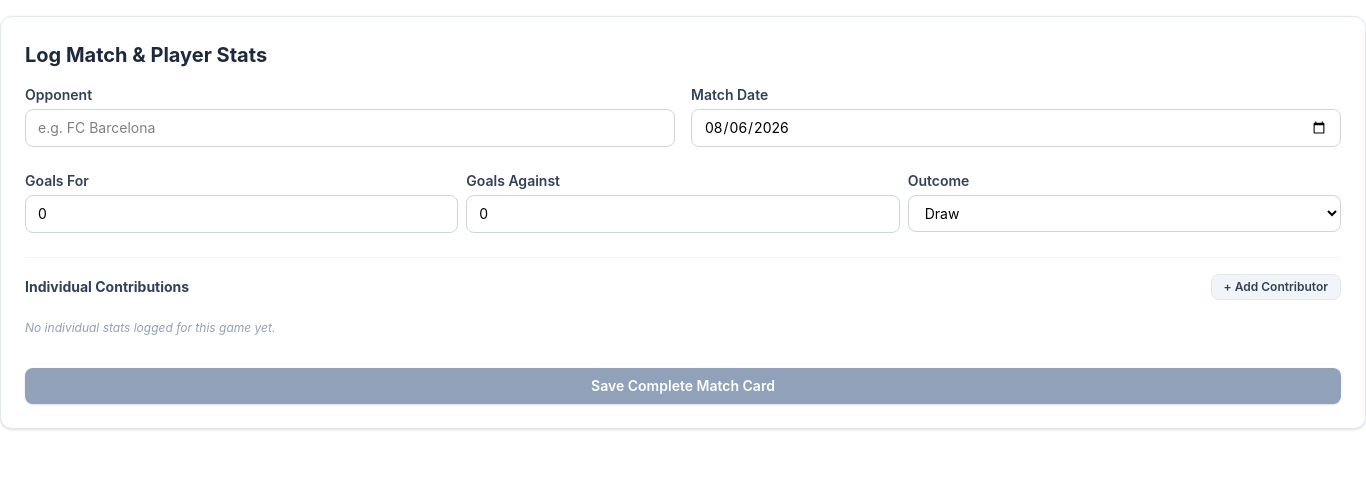
Test case: MatchLogger › records a match and player stats after the form is submitted
The image size is (1366, 501).
Type "Rivals" into the field with placeholder "e.g. FC Barcelona" at (350, 128), box [25,109,675,147]
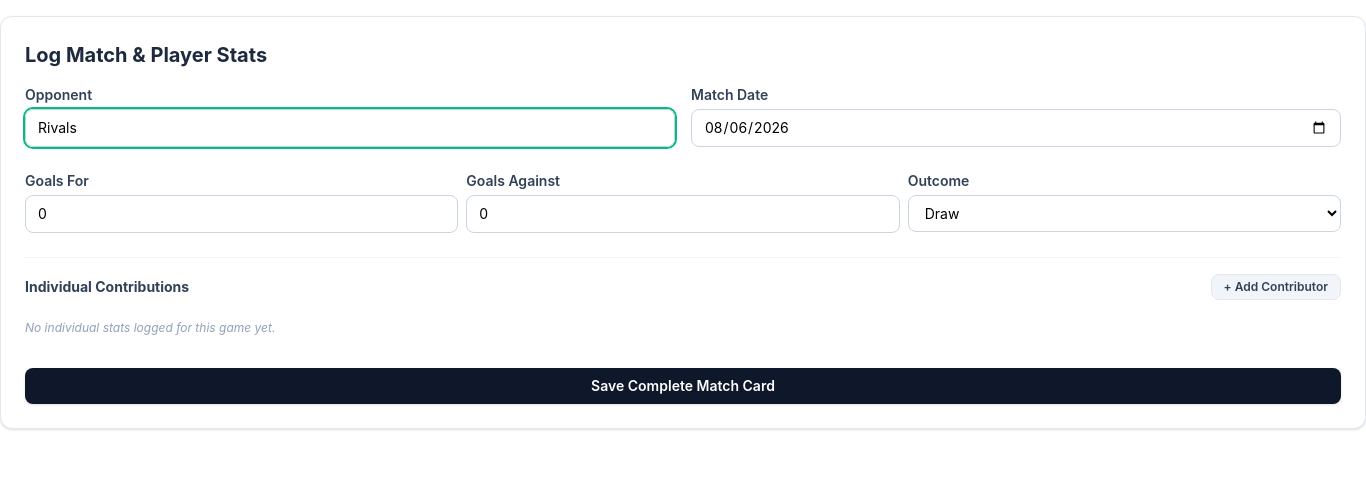
Type "2024-05-10" into the date field at (1016, 128), box [691,109,1341,147]
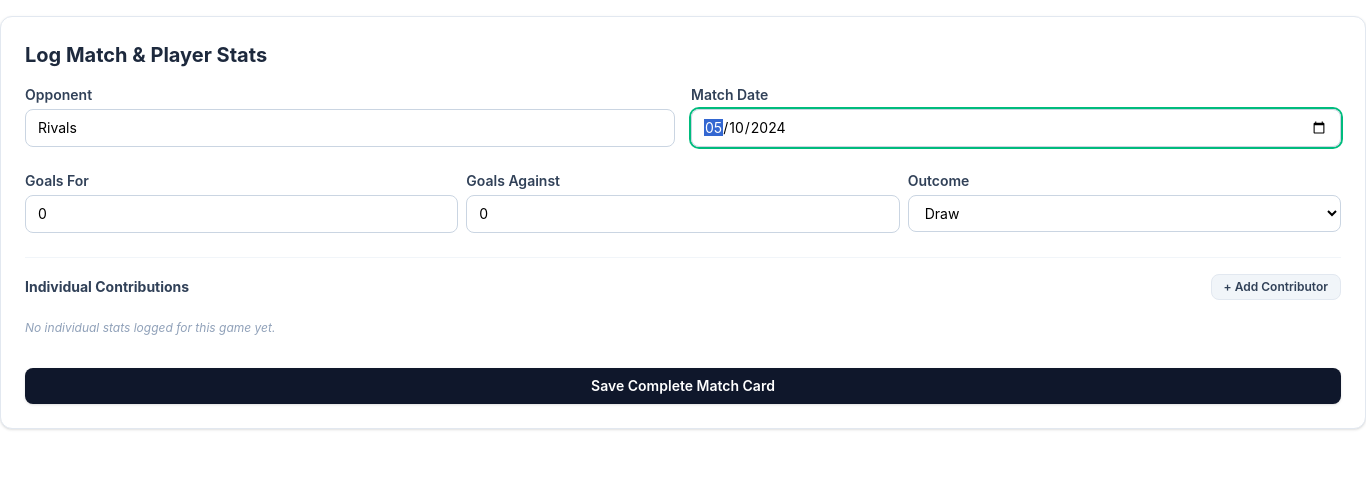
Click the button "+ Add Contributor" at (1276, 287), box [1211,274,1341,300]
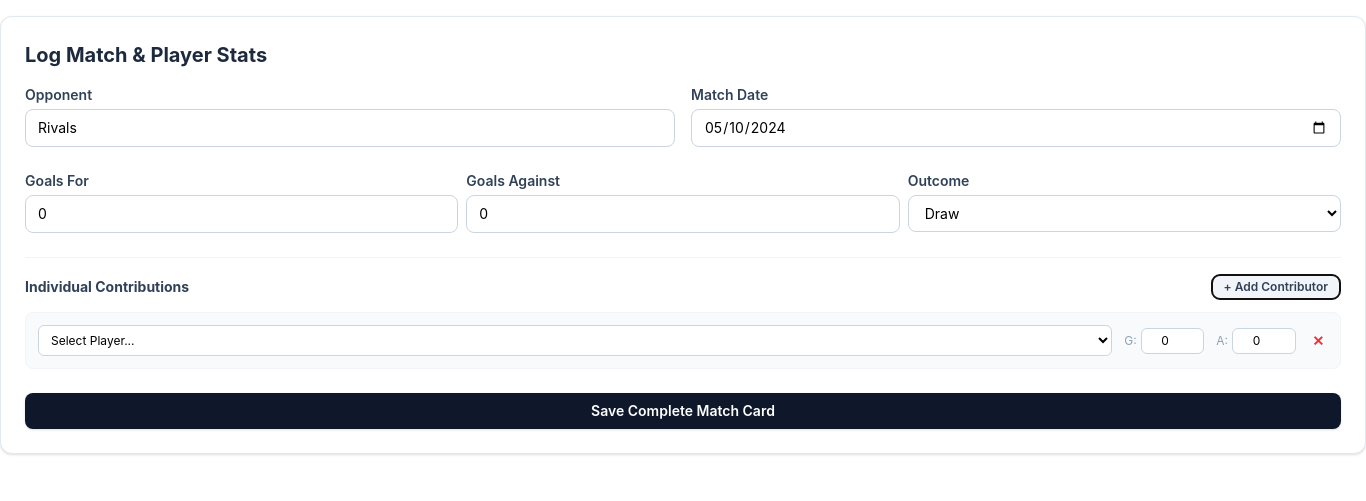
Expected: the dropdown next to "G:" is shown
Select "Mia (Forward)" in the dropdown next to "G:" at (575, 340), box [38,325,1112,356]
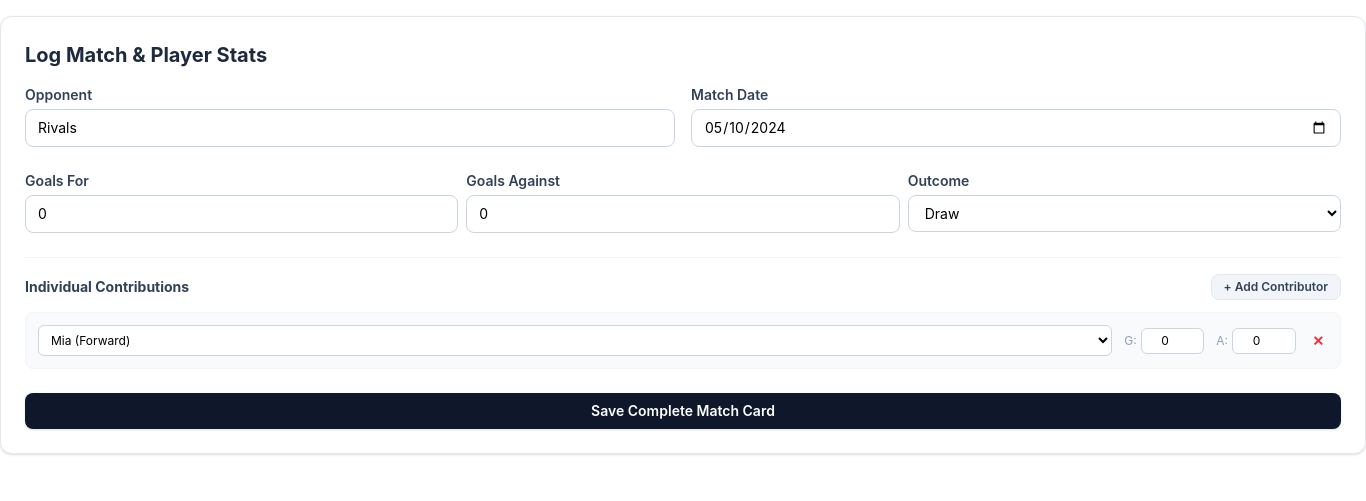
Click the button "Save Complete Match Card" at (683, 411), box [25,393,1341,429]
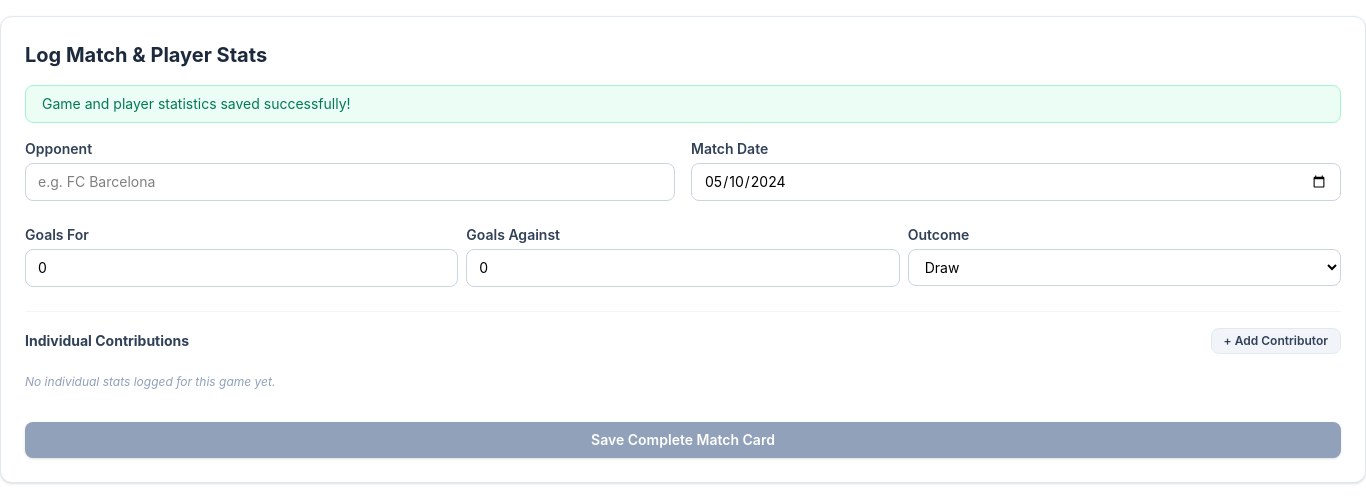
Expected: the text "Game and player statistics saved successfully!" is shown, [25,85,1341,123]
